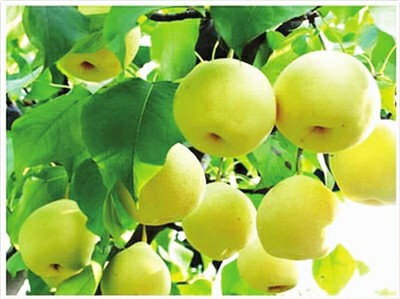pear: (272, 50, 380, 154), (173, 59, 275, 156), (116, 137, 204, 226), (255, 176, 344, 260), (46, 6, 140, 82), (18, 198, 98, 277), (327, 119, 397, 204), (183, 181, 254, 261), (99, 241, 170, 295), (235, 238, 298, 292)
